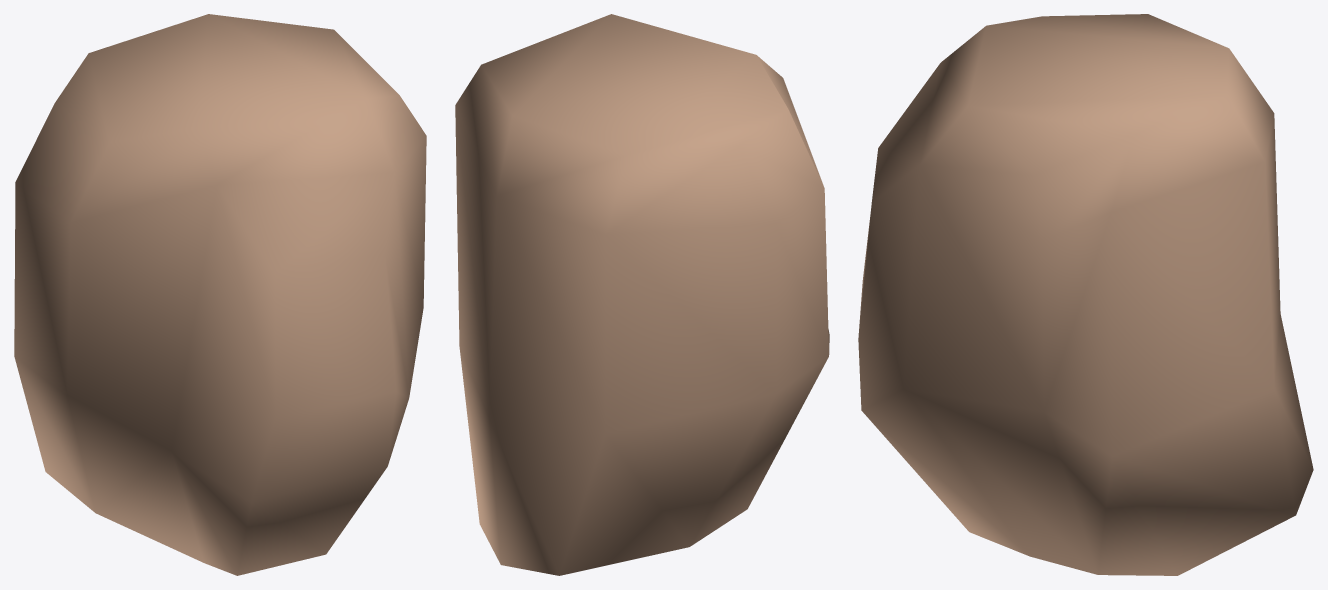
File: Boulder_07_B.fbx
The picture shows the model from 3 angles, left to right: view 1: azimuth 30°, elevation 25°; view 2: azimuth 150°, elevation 25°; view 3: azimuth 270°, elevation 25°; orthographic projection. The views are drawn at different scales.
Parts seen in each view (by area): view 1: Boulder_07_B; view 2: Boulder_07_B; view 3: Boulder_07_B.
Boxes of the visible parts, box(x1,y1,x2,y2) form: Boulder_07_B: box(14, 14, 426, 575); Boulder_07_B: box(455, 14, 829, 575); Boulder_07_B: box(858, 14, 1313, 575).
Size of the model in its own units: 189 by 235 by 208.
